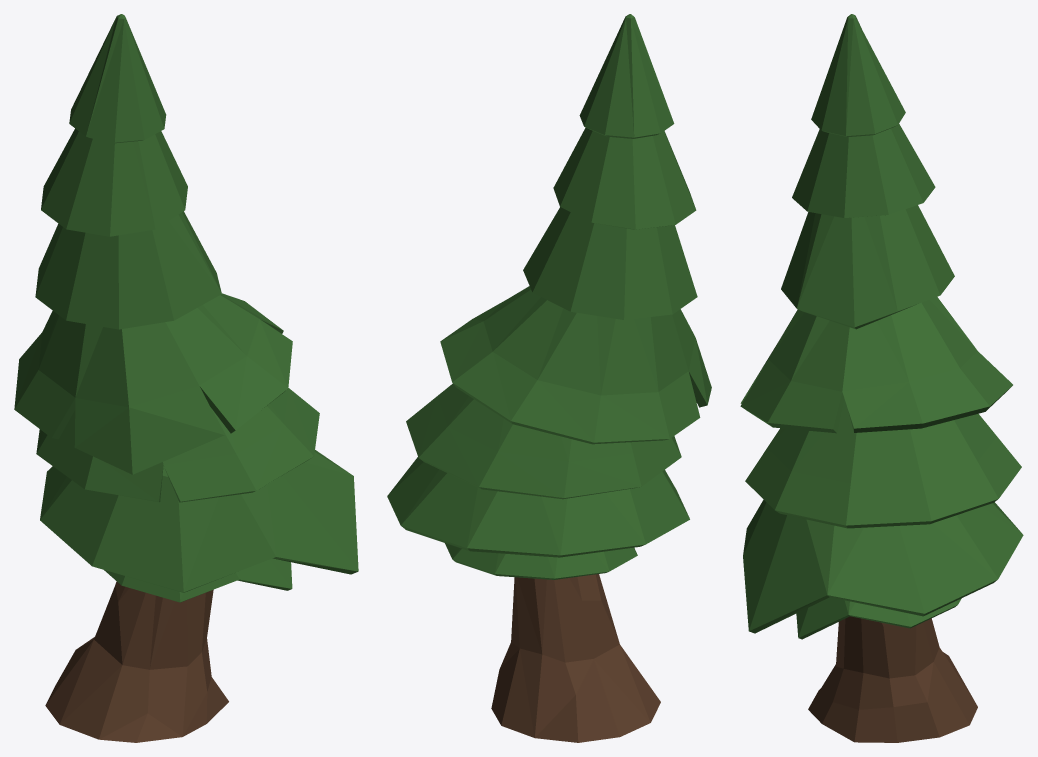
File: PineTree.fbx
3 renders of one model, left to right at view 1: azimuth 30°, elevation 25°; view 2: azimuth 150°, elevation 25°; view 3: azimuth 270°, elevation 25°, orthographic. The views are drawn at different scales.
Visible parts, largest first — view 1: Pinetree_LOD0; view 2: Pinetree_LOD0; view 3: Pinetree_LOD0.
Boxes of the visible parts, x1=… form: Pinetree_LOD0: x1=14, y1=14, x2=358, y2=742; Pinetree_LOD0: x1=387, y1=14, x2=711, y2=742; Pinetree_LOD0: x1=740, y1=14, x2=1023, y2=742.
Size of what is drawn, in the model's own units: 374 by 869 by 329.
